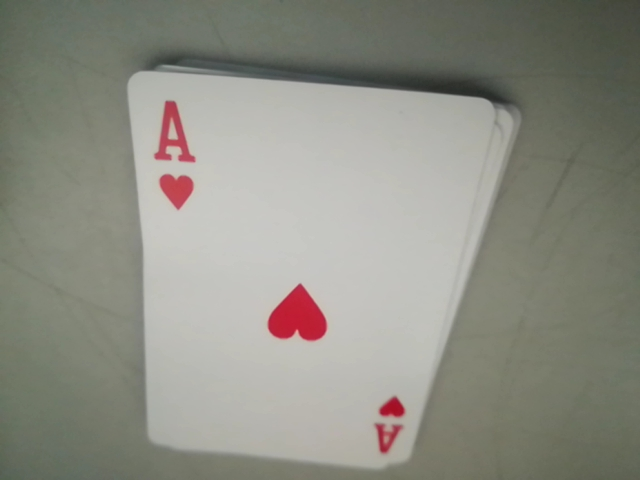hx a: (366, 388, 416, 462)
